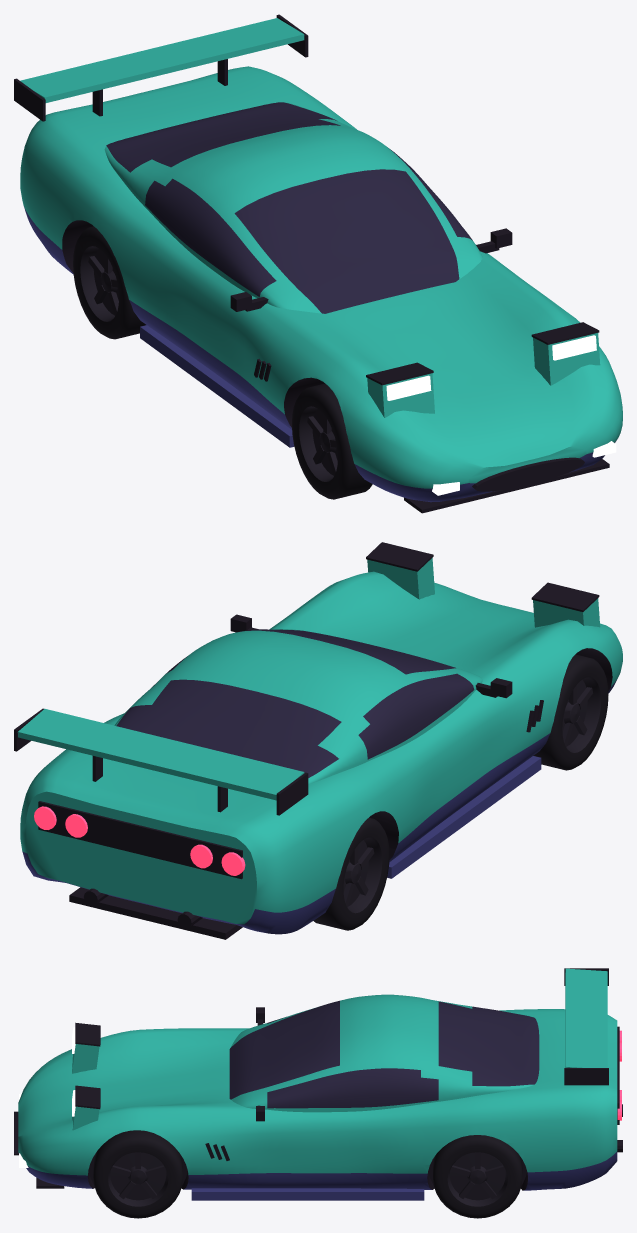
3 views of the same model, one above another, from view 1: azimuth 30°, elevation 25°; view 2: azimuth 150°, elevation 25°; view 3: azimuth 270°, elevation 25° (orthographic). The views are drawn at different scales.
Parts seen in each view (by area): view 1: body, wheel_fl, wheel_rl; view 2: body, wheel_fl, wheel_rl; view 3: body, wheel_fr, wheel_rr.
Part boxes in pixels (<box>): body: <box>14,14,622,513</box>; wheel_fl: <box>292,383,372,499</box>; wheel_rl: <box>73,226,145,339</box>; body: <box>14,542,622,939</box>; wheel_fl: <box>533,654,608,770</box>; wheel_rl: <box>313,817,389,930</box>; body: <box>14,968,622,1200</box>; wheel_fr: <box>93,1130,182,1218</box>; wheel_rr: <box>433,1135,522,1218</box>.
Size of the model in its own units: 1.79 by 1.22 by 4.35.
